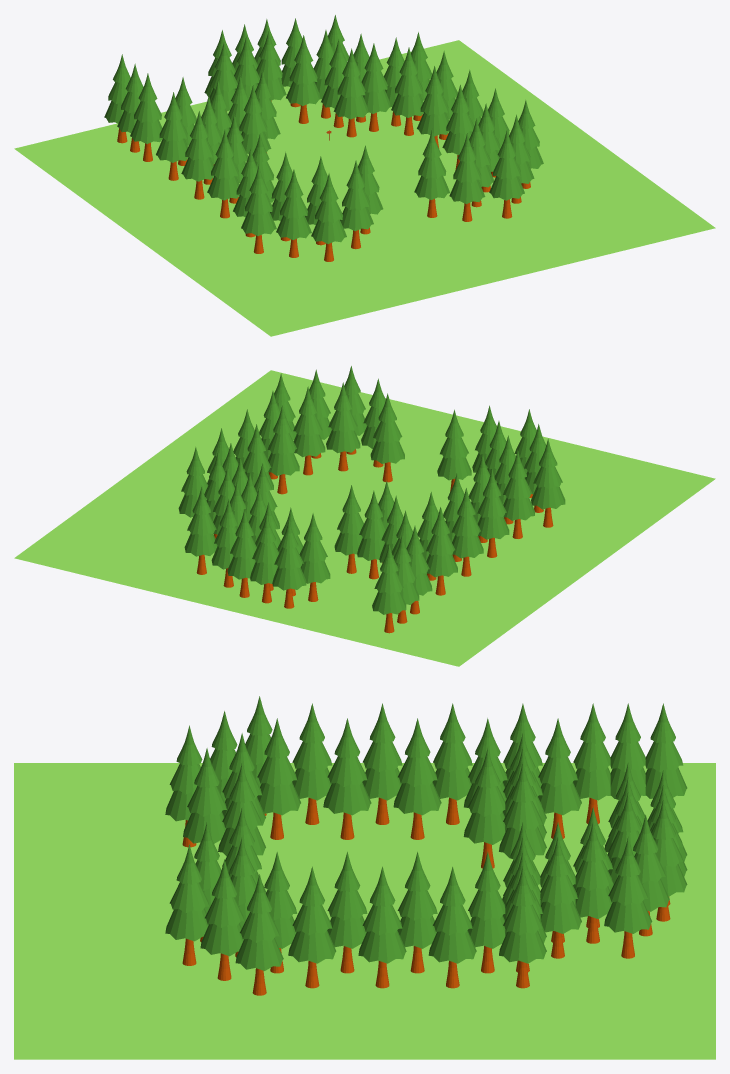
The model's file is stage1.glb.
3 views of the same model, one above another, from view 1: azimuth 30°, elevation 25°; view 2: azimuth 150°, elevation 25°; view 3: azimuth 270°, elevation 25° (orthographic). The views are drawn at different scales.
Visible parts, largest first — view 1: ground, pine_tree.009, pine_tree.028, pine_tree.027, pine_tree.040, pine_tree.004, pine_tree.006, pine_tree.003, pine_tree.011, pine_tree.002, pine_tree.032, pine_tree.023 (+35 smaller); view 2: ground, pine_tree.043, pine_tree.034, pine_tree.006, pine_tree.004, pine_tree.047, pine_tree.046, pine_tree.021, pine_tree.030, pine_tree.026, pine_tree.044, pine_tree.025 (+31 smaller); view 3: ground, pine_tree.016, pine_tree.014, pine_tree.022, pine_tree.018, pine_tree.019, pine_tree.017, pine_tree.015, pine_tree.046, pine_tree.007, pine_tree.008, pine_tree.027 (+39 smaller).
Part boxes in pixels (bbox=[...]): ground: bbox=[14, 40, 715, 336]; pine_tree.009: bbox=[276, 169, 311, 257]; pine_tree.028: bbox=[449, 133, 485, 221]; pine_tree.027: bbox=[489, 129, 524, 218]; pine_tree.040: bbox=[333, 48, 368, 137]; pine_tree.004: bbox=[241, 165, 276, 253]; pine_tree.006: bbox=[414, 129, 449, 217]; pine_tree.003: bbox=[311, 173, 346, 261]; pine_tree.011: bbox=[286, 35, 320, 123]; pine_tree.002: bbox=[340, 160, 373, 249]; pine_tree.032: bbox=[130, 73, 162, 161]; pine_tree.023: bbox=[391, 47, 423, 135]; ground: bbox=[14, 370, 715, 666]; pine_tree.043: bbox=[326, 382, 360, 471]; pine_tree.034: bbox=[372, 544, 406, 633]; pine_tree.006: bbox=[370, 393, 404, 482]; pine_tree.004: bbox=[531, 438, 565, 527]; pine_tree.047: bbox=[272, 519, 306, 608]; pine_tree.046: bbox=[184, 486, 217, 574]; pine_tree.021: bbox=[477, 469, 509, 557]; pine_tree.030: bbox=[426, 507, 457, 595]; pine_tree.026: bbox=[451, 488, 483, 576]; pine_tree.044: bbox=[293, 386, 325, 475]; pine_tree.025: bbox=[267, 405, 299, 494]; ground: bbox=[14, 763, 715, 1059]; pine_tree.016: bbox=[428, 866, 476, 988]; pine_tree.014: bbox=[323, 718, 371, 839]; pine_tree.022: bbox=[393, 718, 441, 839]; pine_tree.018: bbox=[288, 866, 336, 988]; pine_tree.019: bbox=[235, 874, 283, 995]; pine_tree.017: bbox=[358, 866, 406, 988]; pine_tree.015: bbox=[499, 866, 546, 988]; pine_tree.046: bbox=[604, 837, 652, 958]; pine_tree.007: bbox=[257, 718, 300, 839]; pine_tree.008: bbox=[200, 859, 244, 980]; pine_tree.027: bbox=[165, 844, 209, 965].
Size of the model in its own units: 100 by 18.76 by 100.
